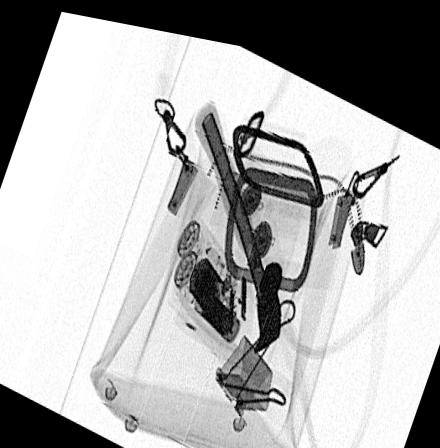Hammer: (195, 88, 284, 343)
